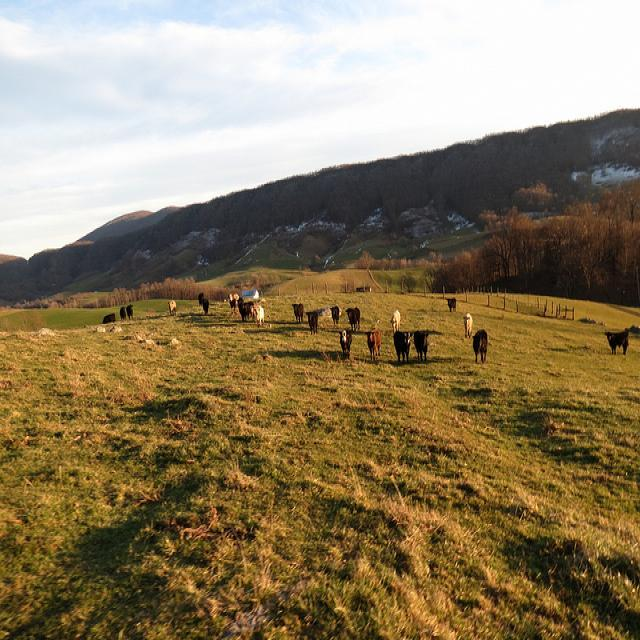cow: (100, 292, 251, 325), (392, 328, 411, 361), (470, 327, 487, 363), (363, 328, 380, 360), (603, 331, 626, 352), (412, 328, 427, 360), (336, 327, 351, 357), (343, 304, 360, 329), (306, 307, 318, 332), (250, 304, 263, 324), (388, 308, 399, 331), (462, 311, 472, 336), (290, 302, 302, 322), (328, 304, 338, 323), (446, 296, 455, 309)
